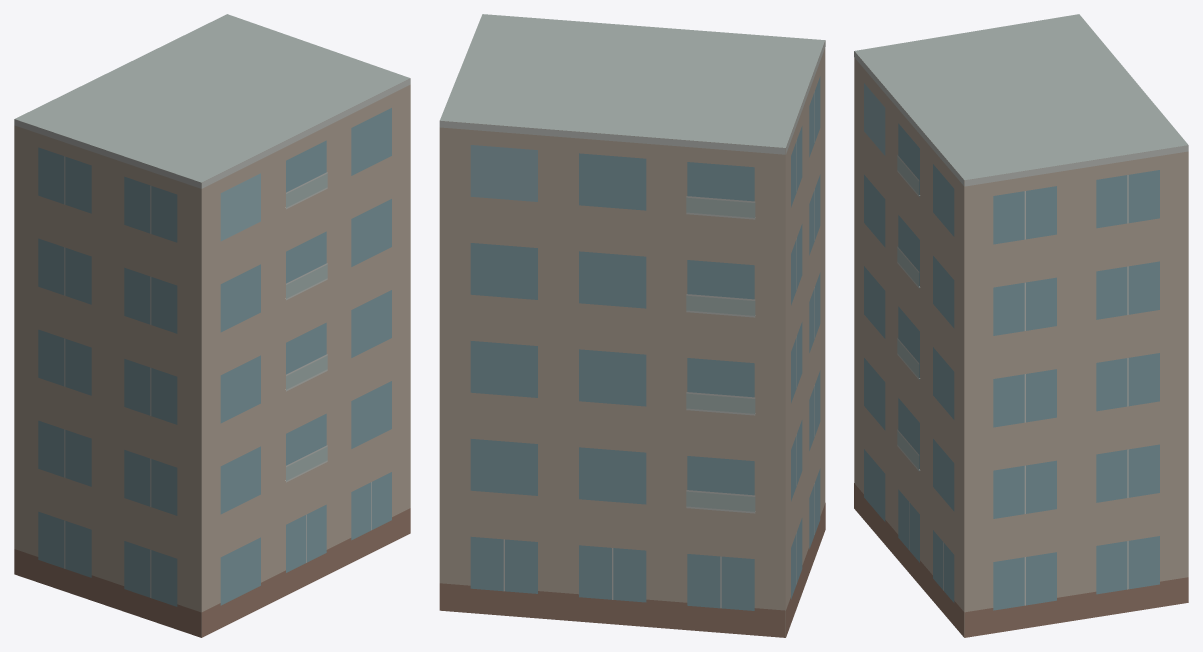
Rendered from survey-upis-32944742.glb.
3 views of the same model, side by side, from view 1: azimuth 30°, elevation 25°; view 2: azimuth 150°, elevation 25°; view 3: azimuth 270°, elevation 25° (orthographic). The views are drawn at different scales.
Visible parts, largest first — view 1: survey-upis-32944742.tmp; view 2: survey-upis-32944742.tmp; view 3: survey-upis-32944742.tmp.
Part boxes in pixels (left/top/right/bottom): survey-upis-32944742.tmp: left=14, top=14, right=410, bottom=637; survey-upis-32944742.tmp: left=439, top=14, right=825, bottom=637; survey-upis-32944742.tmp: left=854, top=14, right=1188, bottom=637.
Bounding box in the file's own units: 13.81 × 17.7 × 11.74.
